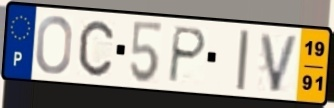5: (128, 19, 165, 86)
C: (77, 18, 116, 79)
I: (235, 28, 251, 92)
O: (34, 14, 74, 77)
P: (165, 24, 209, 85)
V: (258, 31, 302, 94)
